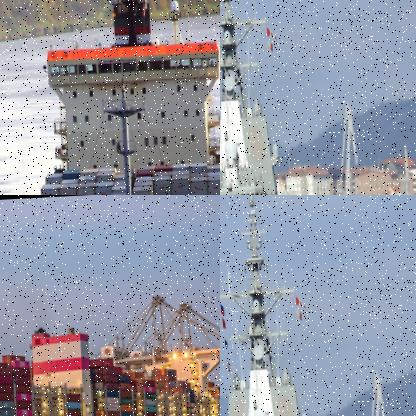Merchant Ship: (23, 0, 219, 194), (0, 316, 219, 415)
Military Ship: (220, 195, 343, 415), (220, 0, 314, 194)
